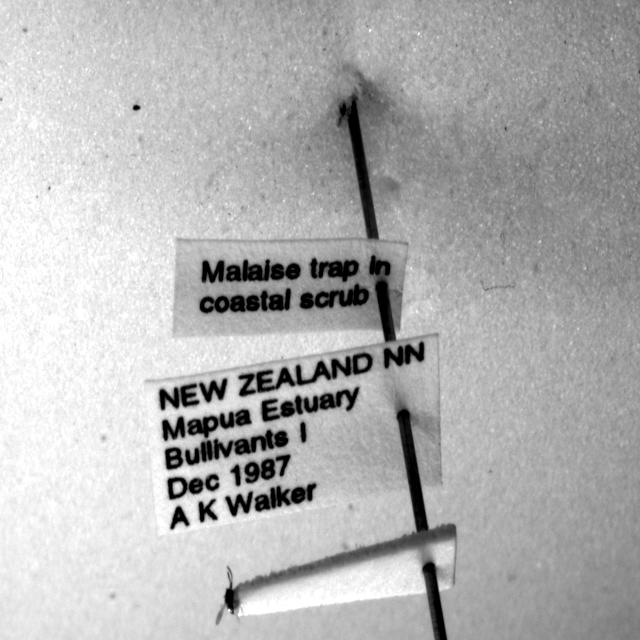typed_label: (146, 336, 441, 534), (174, 238, 408, 336)
